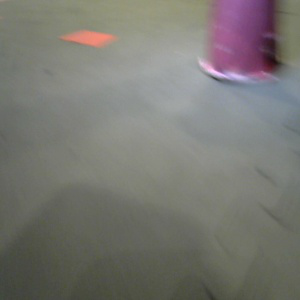right: (195, 1, 288, 85)
